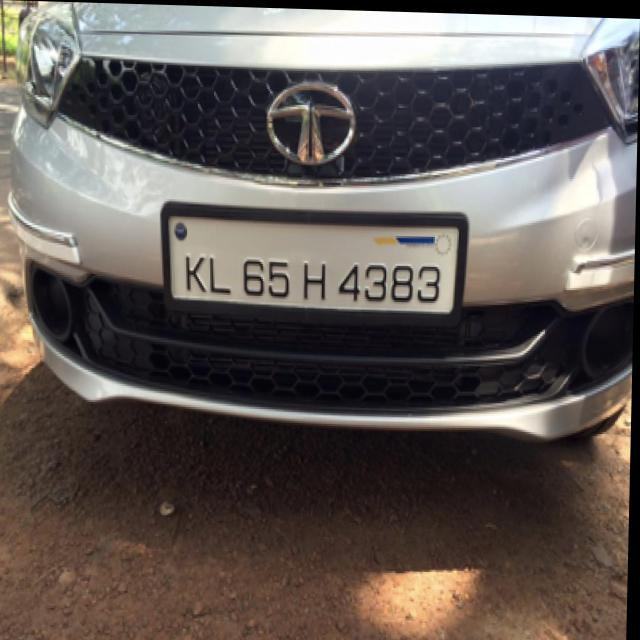licence: (161, 202, 459, 310)
